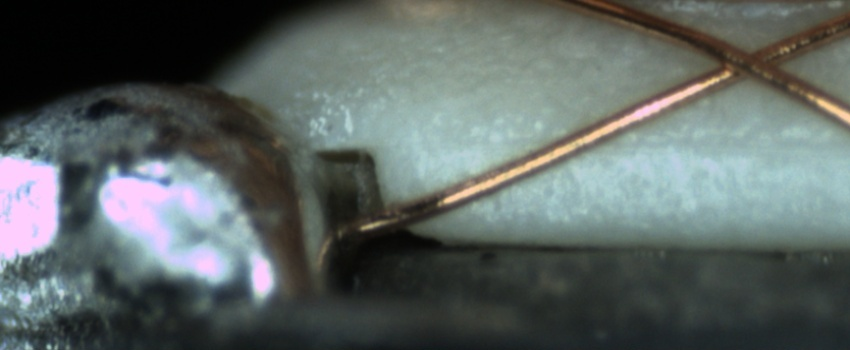CL: (693, 31, 797, 91)
DL: (452, 109, 850, 165)
